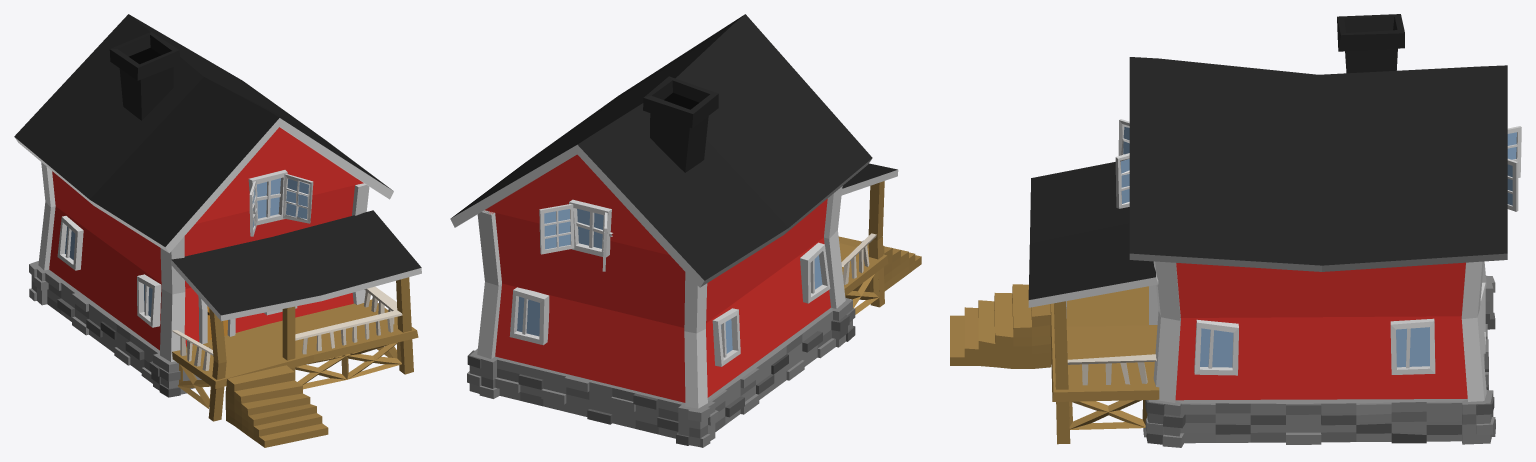
Rendered from wonky red house.fbx.
The picture shows the model from 3 angles, left to right: view 1: azimuth 30°, elevation 25°; view 2: azimuth 150°, elevation 25°; view 3: azimuth 270°, elevation 25°; orthographic projection. The views are drawn at different scales.
Parts seen in each view (by area): view 1: wonky blue house_LOD0; view 2: wonky blue house_LOD0; view 3: wonky blue house_LOD0.
Part boxes in pixels (x1,y1,x2,y2): wonky blue house_LOD0: (14, 14, 421, 447); wonky blue house_LOD0: (450, 14, 921, 447); wonky blue house_LOD0: (950, 14, 1521, 447).
Size of what is drawn, in the model's own units: 9.79 by 10.75 by 16.41.
